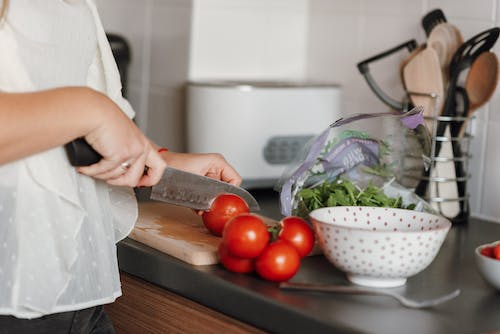knife: (64, 136, 262, 213)
